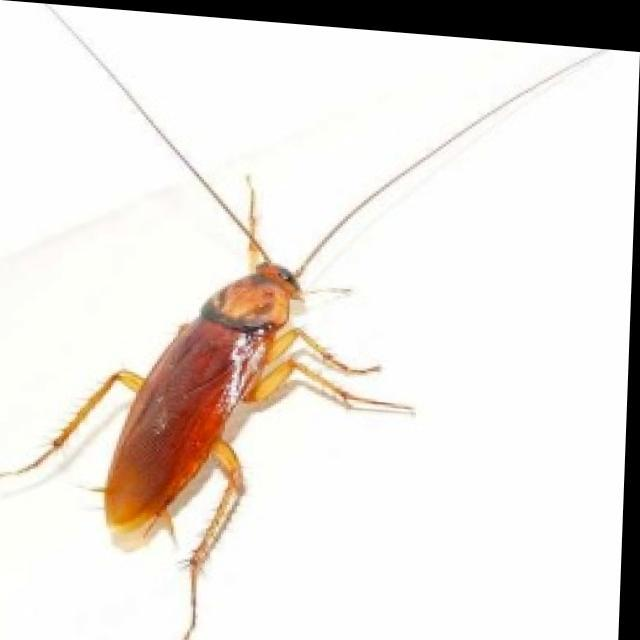cockroach: (8, 167, 394, 640)
